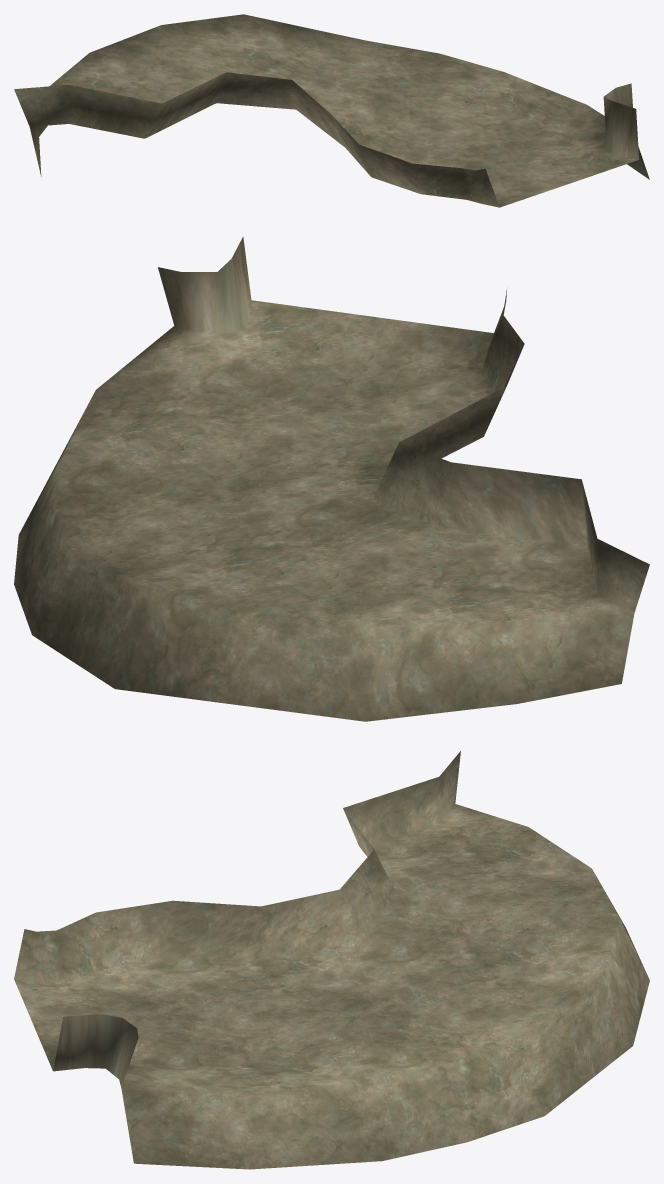
Rendered from EKH_GROTTO_PS_GR_LINE17.fbx.
3 renders of one model, top to bottom at view 1: azimuth 30°, elevation 25°; view 2: azimuth 150°, elevation 25°; view 3: azimuth 270°, elevation 25°, orthographic. The views are drawn at different scales.
Visible parts, largest first — view 1: EKH_GROTTO_PS_GR_LINE17; view 2: EKH_GROTTO_PS_GR_LINE17; view 3: EKH_GROTTO_PS_GR_LINE17.
Part boxes in pixels (x1,y1,x2,y2): EKH_GROTTO_PS_GR_LINE17: [14, 14, 649, 207]; EKH_GROTTO_PS_GR_LINE17: [14, 236, 649, 721]; EKH_GROTTO_PS_GR_LINE17: [14, 751, 649, 1169].
Bounding box in the file's own units: 63239 × 14619 × 59565.
Materials: 1 (1 with a texture image).
